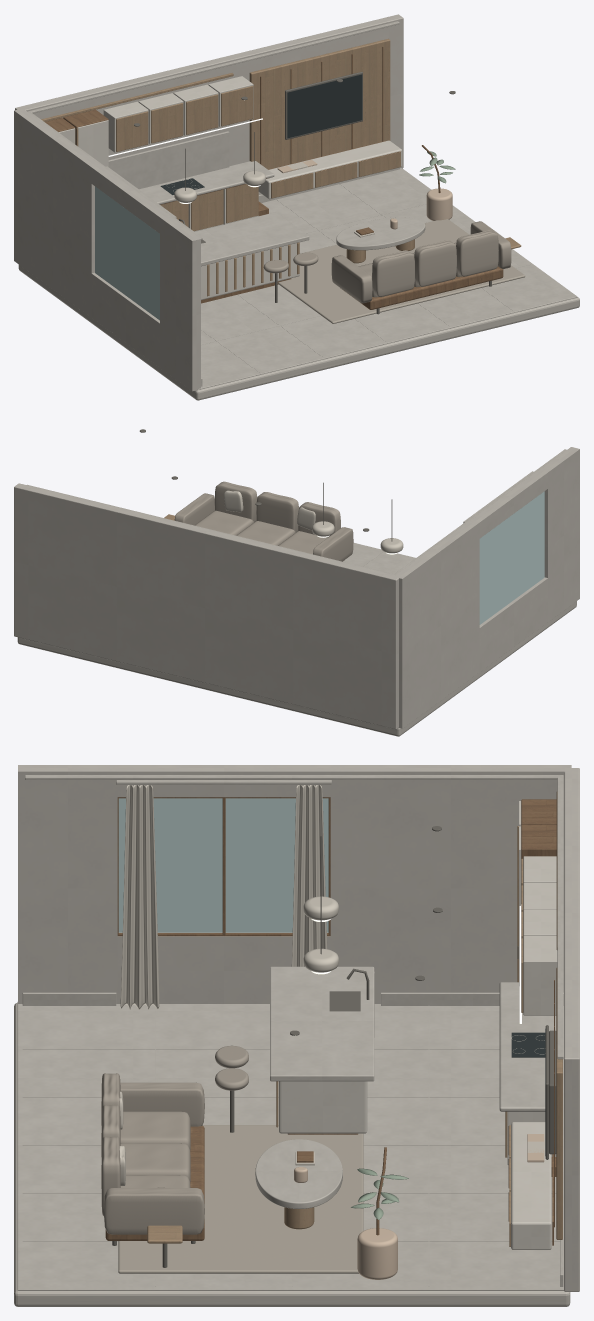
The model's file is win_space_01.glb.
The picture shows the model from 3 angles, top to bottom: view 1: azimuth 30°, elevation 25°; view 2: azimuth 150°, elevation 25°; view 3: azimuth 270°, elevation 25°; orthographic projection. The views are drawn at different scales.
Visible parts, largest first — view 1: ARCH_Limestone floor finish, ARCH_Left wall rear pier, JOINERY_TV oak backing panel, ARCH_Back wall, ARCH_Left wall front pier, ARCH_Window glazing, ARCH_Floor structural slab, SOFT_Rug under seating, JOINERY_Kitchen pale stone backsplash, DETAIL_TV screen, JOINERY_Island stone waterfall top, ARCH_Window sill wall (+31 smaller); view 2: ARCH_Back wall, ARCH_Left wall rear pier, ARCH_Window glazing, ARCH_Left wall front pier, ARCH_Floor structural slab, ARCH_Window sill wall, ARCH_Window head, FURN_Sofa upright back cushion 1.58, ARCH_Limestone floor finish, FURN_Sofa upright back cushion 2.43, FURN_Sofa rounded arm 0.17, FURN_Sofa plush seat 1.58 (+6 smaller); view 3: ARCH_Limestone floor finish, ARCH_Left wall rear pier, ARCH_Left wall front pier, SOFT_Rug under seating, ARCH_Window glazing, JOINERY_Island stone waterfall top, ARCH_Floor structural slab, ARCH_Window sill wall, ARCH_Back wall, SOFT_Left floor-length curtain, SOFT_Right floor-length curtain, JOINERY_Island core (+30 smaller).
Part boxes in pixels (left/top/right/bottom): ARCH_Limestone floor finish: left=197, top=168, right=577, bottom=389; ARCH_Left wall rear pier: left=14, top=109, right=99, bottom=317; JOINERY_TV oak backing panel: left=249, top=38, right=390, bottom=169; ARCH_Back wall: left=15, top=14, right=403, bottom=194; ARCH_Left wall front pier: left=160, top=215, right=200, bottom=391; ARCH_Window glazing: left=95, top=186, right=159, bottom=320; ARCH_Floor structural slab: left=18, top=265, right=579, bottom=400; SOFT_Rug under seating: left=278, top=219, right=525, bottom=323; JOINERY_Kitchen pale stone backsplash: left=108, top=131, right=229, bottom=189; DETAIL_TV screen: left=287, top=74, right=362, bottom=138; JOINERY_Island stone waterfall top: left=195, top=212, right=309, bottom=266; ARCH_Window sill wall: left=91, top=272, right=159, bottom=367; ARCH_Back wall: left=14, top=483, right=398, bottom=729; ARCH_Left wall rear pier: left=394, top=520, right=479, bottom=728; ARCH_Window glazing: left=479, top=491, right=544, bottom=624; ARCH_Left wall front pier: left=539, top=447, right=579, bottom=621; ARCH_Floor structural slab: left=17, top=601, right=576, bottom=736; ARCH_Window sill wall: left=479, top=577, right=547, bottom=671; ARCH_Window head: left=471, top=470, right=547, bottom=538; FURN_Sofa upright back cushion 1.58: left=256, top=492, right=298, bottom=532; ARCH_Limestone floor finish: left=343, top=543, right=415, bottom=573; FURN_Sofa upright back cushion 2.43: left=214, top=481, right=257, bottom=522; FURN_Sofa rounded arm 0.17: left=313, top=527, right=353, bottom=561; FURN_Sofa plush seat 1.58: left=236, top=521, right=295, bottom=545; ARCH_Limestone floor finish: left=17, top=1002, right=563, bottom=1290; ARCH_Left wall rear pier: left=330, top=765, right=571, bottom=1003; ARCH_Left wall front pier: left=18, top=765, right=117, bottom=1003; SOFT_Rug under seating: left=118, top=1125, right=363, bottom=1273; ARCH_Window glazing: left=118, top=798, right=328, bottom=932; JOINERY_Island stone waterfall top: left=270, top=966, right=374, bottom=1081; ARCH_Floor structural slab: left=14, top=1002, right=570, bottom=1306; ARCH_Window sill wall: left=117, top=932, right=330, bottom=1003; ARCH_Back wall: left=564, top=768, right=579, bottom=1291; SOFT_Left floor-length curtain: left=120, top=785, right=159, bottom=1009; SOFT_Right floor-length curtain: left=291, top=785, right=327, bottom=966; JOINERY_Island core: left=279, top=1081, right=367, bottom=1133.
Bounding box in the file's own units: 7.87 × 3.12 × 6.41.
Materials: 18 (12 with a texture image).
